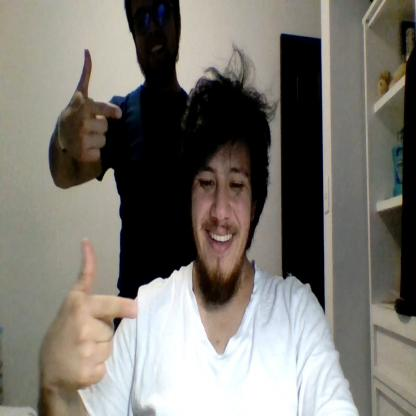G: (57, 238, 138, 387), (66, 48, 122, 162)
